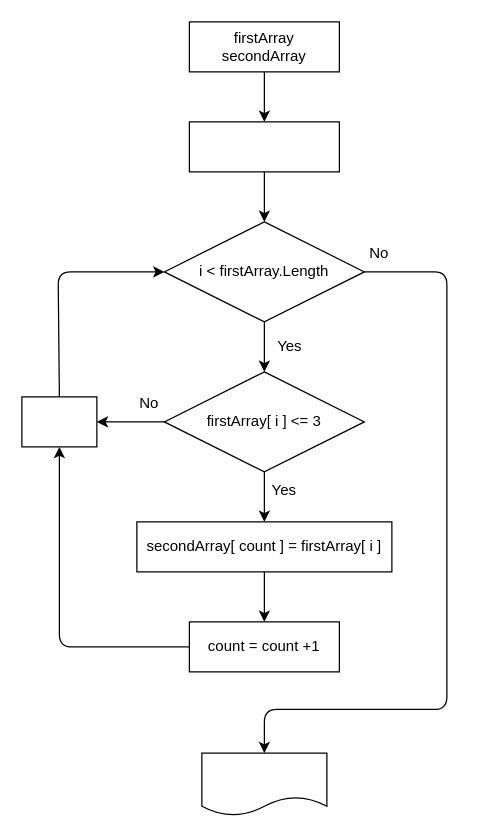
Some shapes in this 479 by 838 pixel diagram are drawn without their labels. The shapes that lost their labels are listed below. From the top down, each one's centre as x and y in pixels, then its label:
point 263,146: count = 0 i = 0
point 59,421: i = i +1
point 264,784: PrintArray
